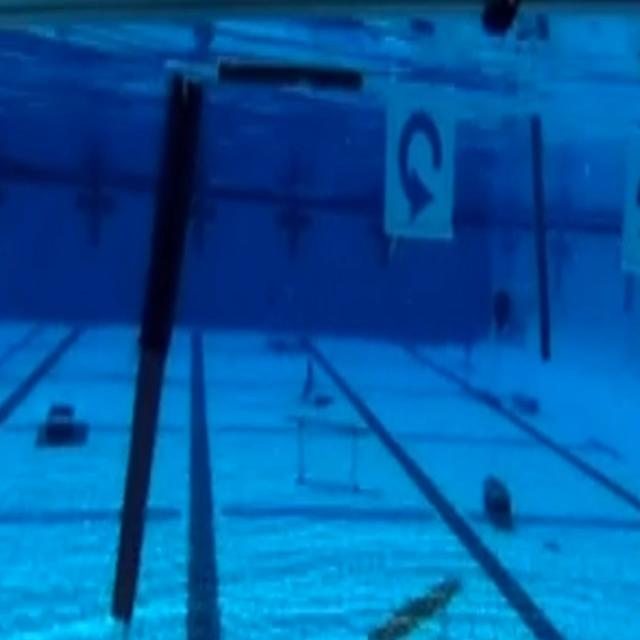Gate: (105, 32, 640, 640)
